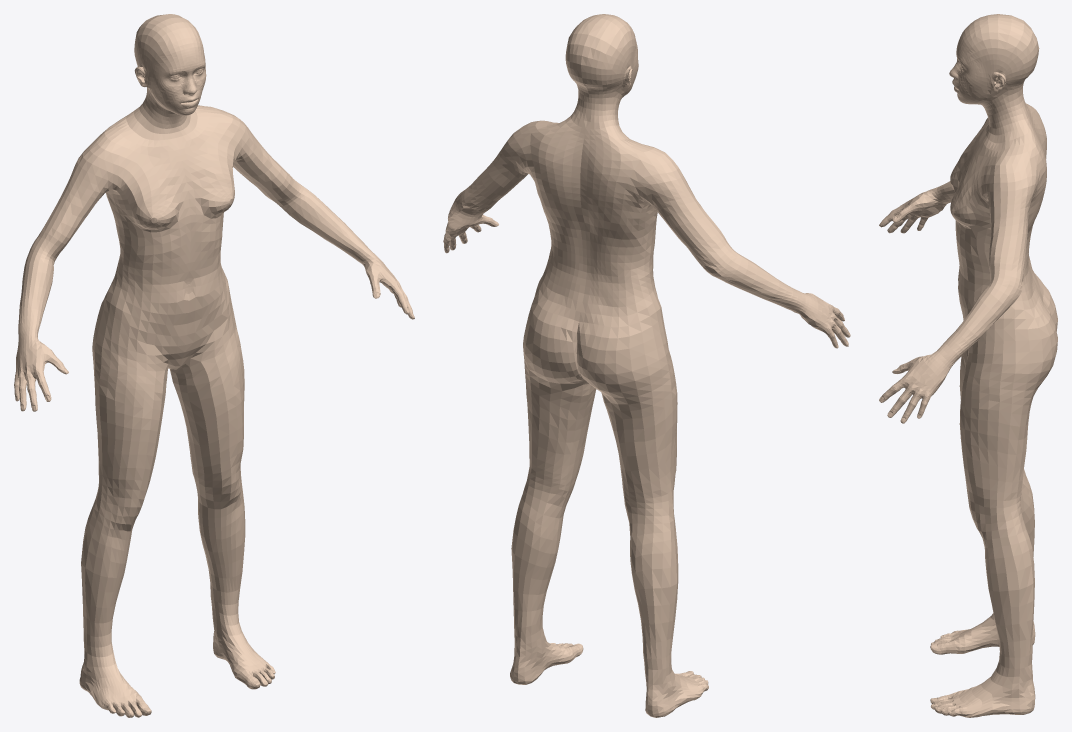
The model's file is female-young-average-medium.glb.
3 renders of one model, left to right at view 1: azimuth 30°, elevation 25°; view 2: azimuth 150°, elevation 25°; view 3: azimuth 270°, elevation 25°, orthographic.
Visible parts, largest first — view 1: world; view 2: world; view 3: world.
Part boxes in pixels (<box>): world: <box>14,14,414,717</box>; world: <box>443,14,850,717</box>; world: <box>879,14,1057,717</box>.
Size of the model in its own units: 1.09 by 1.76 by 0.4292.
